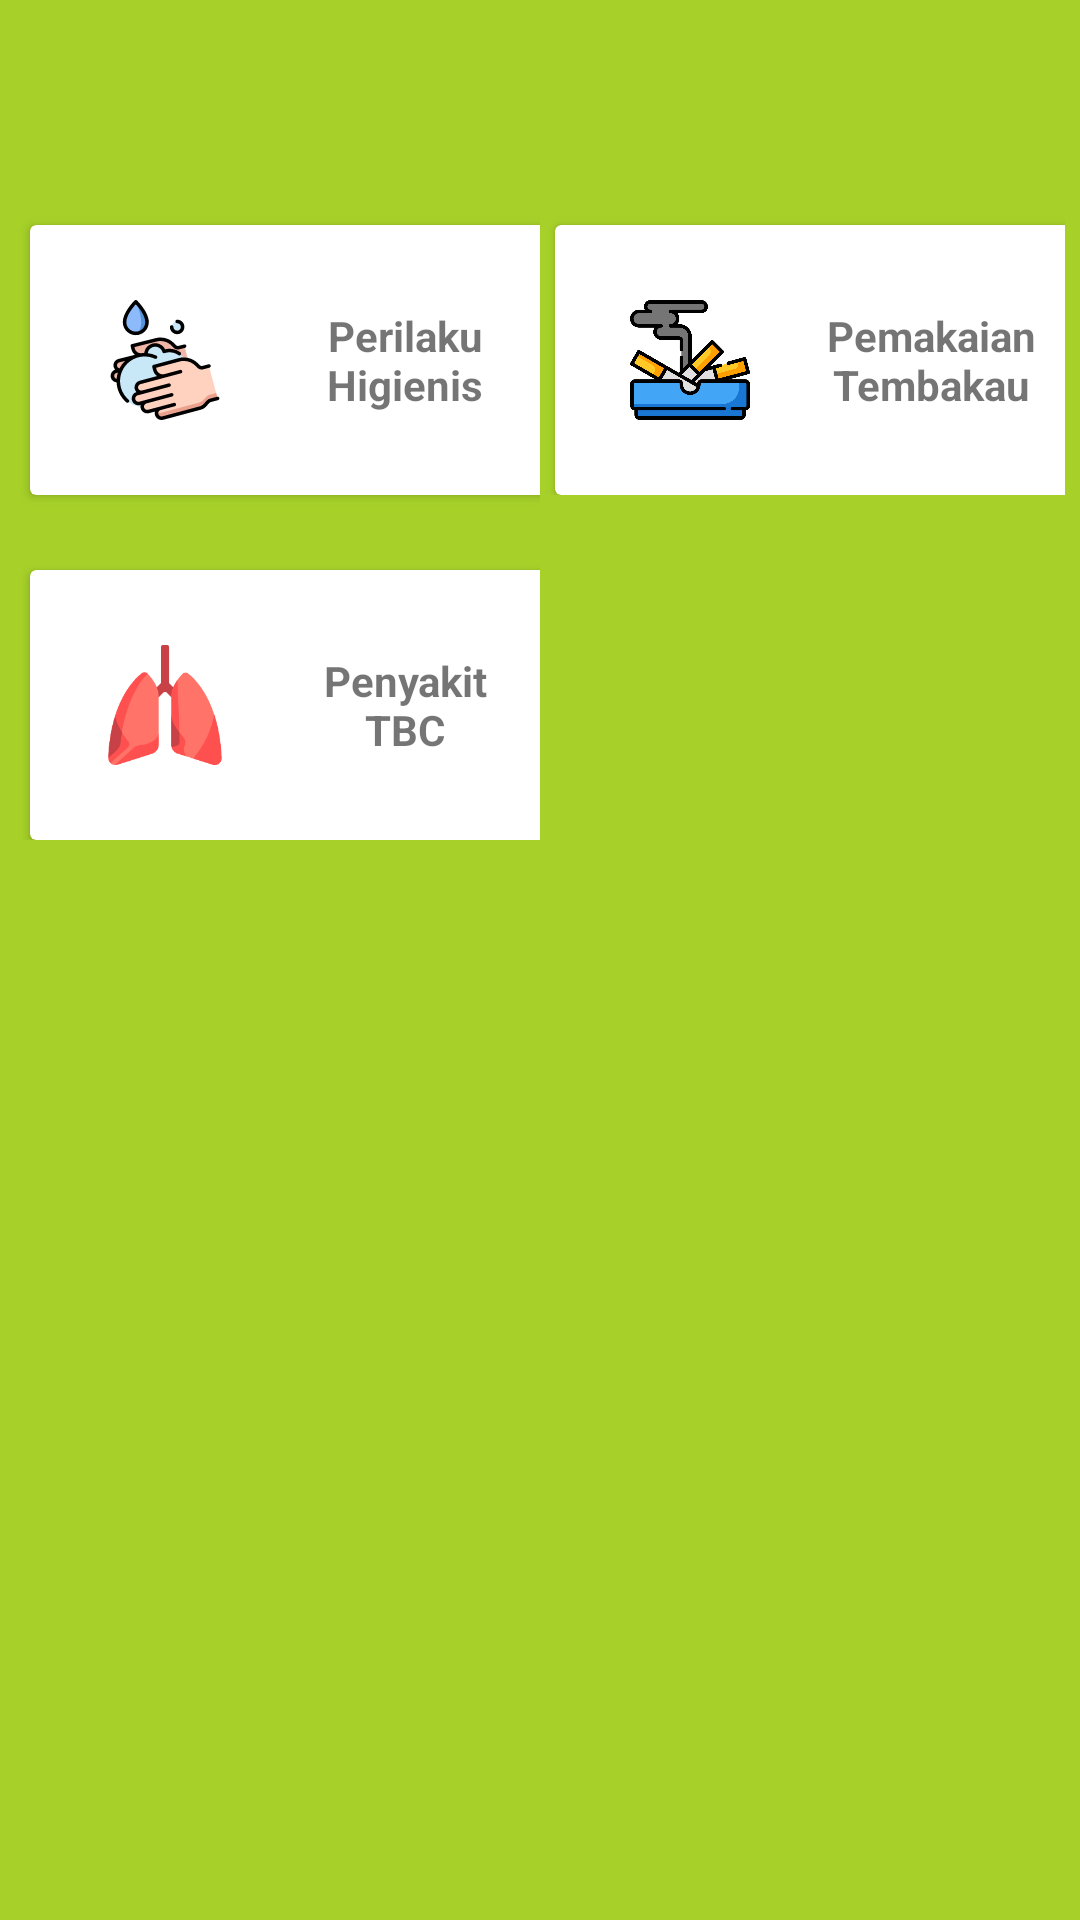

Where icons sit on this 1080×1920 app screen, as (x1, y1, x2, y2):
hands: (110, 300, 220, 420)
lungs: (108, 645, 222, 765)
tobacco: (630, 300, 750, 420)
